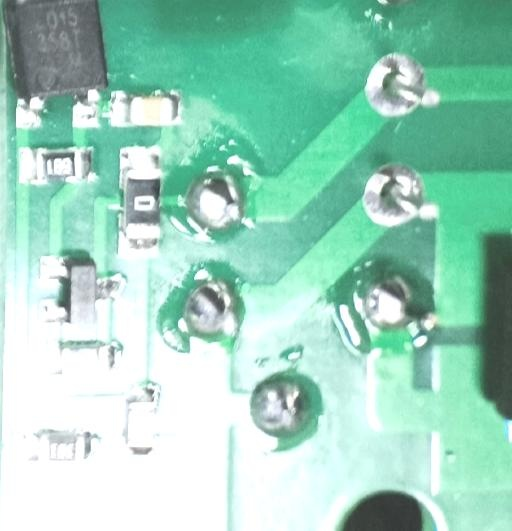chip-capacitor: (108, 89, 185, 128)
chip-resistor: (116, 144, 161, 260), (15, 146, 99, 184), (43, 338, 128, 375), (18, 427, 100, 463), (123, 383, 161, 458)
ic: (2, 0, 104, 134)
transistor: (37, 253, 124, 326)
